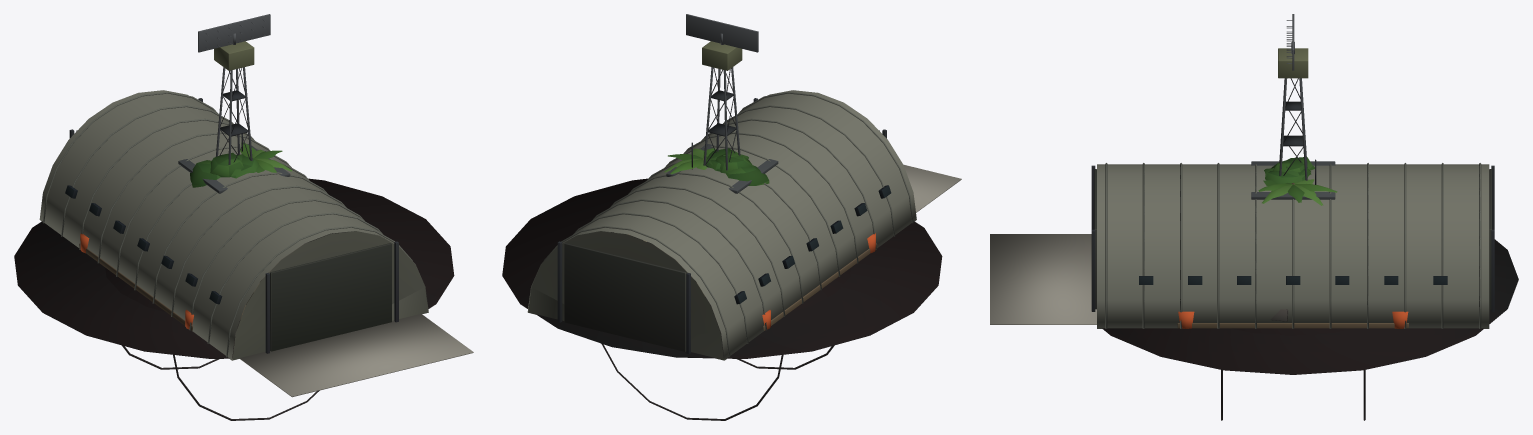
File: ground.glb
The picture shows the model from 3 angles, left to right: view 1: azimuth 30°, elevation 25°; view 2: azimuth 150°, elevation 25°; view 3: azimuth 270°, elevation 25°; orthographic projection.
Visible parts, largest first — view 1: hangar_live, hangar_dead, radar_live, radar_antenna, tree1_mesh, raft_live, palm1_mesh, barracks_dead, tower_live; view 2: hangar_live, hangar_dead, radar_live, radar_antenna, tree1_mesh, raft_live, palm1_mesh, barracks_dead, tower_live; view 3: hangar_live, hangar_dead, radar_live, raft_live, palm1_mesh, tree1_mesh, tower_live, barracks_dead.
Boxes of the visible parts, x1,y1,x2,y2 form: hangar_live: (39,90,473,397); hangar_dead: (14,178,454,420); radar_live: (214,41,254,164); radar_antenna: (198,14,270,52); tree1_mesh: (190,152,258,187); raft_live: (79,233,245,330); palm1_mesh: (240,142,292,172); barracks_dead: (105,268,165,311); tower_live: (178,134,290,193); hangar_live: (527,90,961,360); hangar_dead: (502,178,942,420); radar_live: (702,41,742,170); radar_antenna: (686,14,758,52); tree1_mesh: (706,148,769,185); raft_live: (628,233,877,330); palm1_mesh: (664,148,715,174); barracks_dead: (791,268,851,311); tower_live: (666,142,778,193); hangar_live: (990,163,1494,328); hangar_dead: (1102,239,1518,420); radar_live: (1278,48,1308,180); raft_live: (1177,311,1408,328); palm1_mesh: (1258,179,1337,205); tree1_mesh: (1265,157,1314,183); tower_live: (1251,159,1335,199); barracks_dead: (1231,328,1354,335).
Size of what is drawn, in the model's own units: 50.6 by 46.82 by 59.3.
